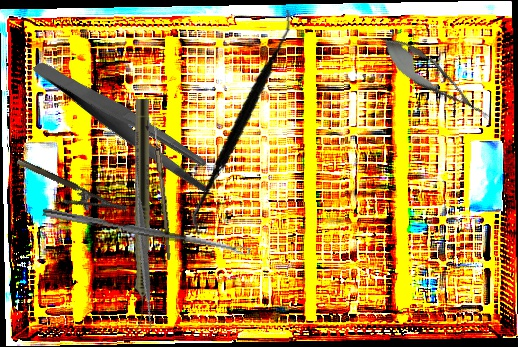Dressing Forceps: (31, 22, 221, 225)
Handpiece: (132, 99, 150, 332)
Micro Scissor: (371, 26, 500, 132)
Needle Holder: (9, 156, 128, 229)
Spatula Surgical: (168, 9, 318, 236), (58, 165, 229, 337)
Surgical Spoon: (42, 207, 251, 258), (148, 107, 175, 260)
